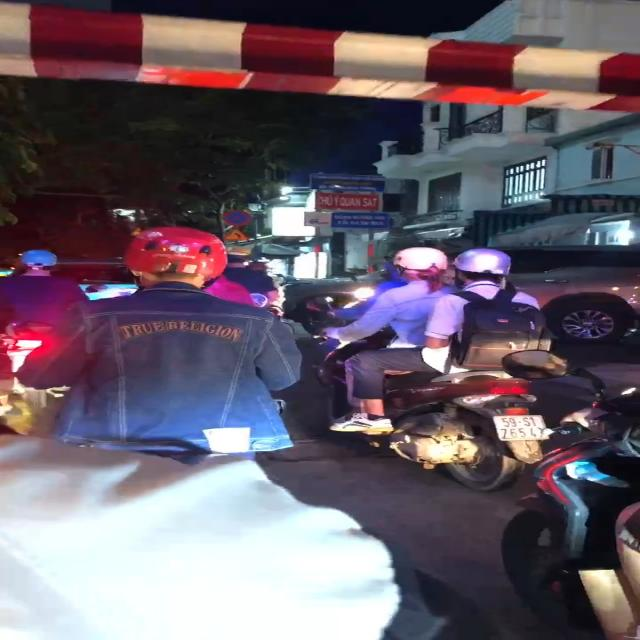Bien bao cam dung xe va do xe: (217, 208, 257, 227)
Bien bao cho ngoat nguy hiem: (222, 228, 250, 242)
